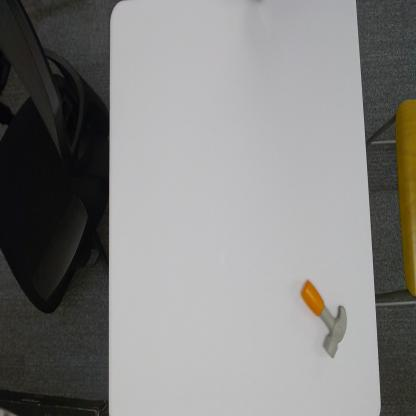Hammer: (300, 278, 348, 358)
